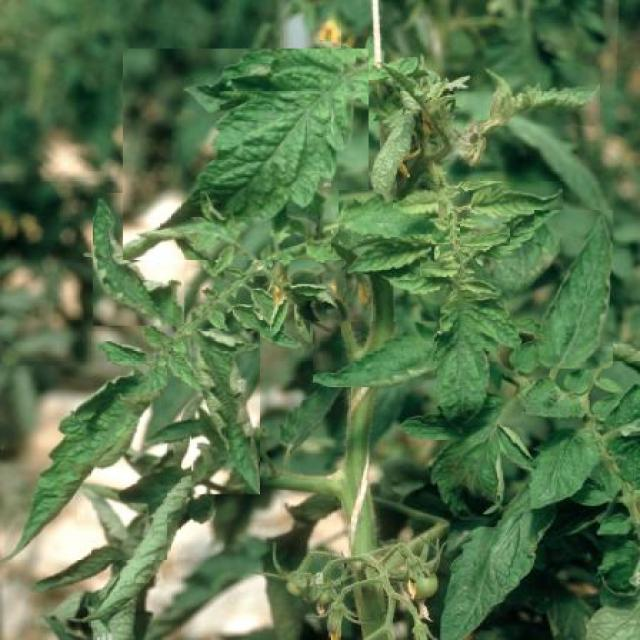Yellow Leaf Curl Virus: (123, 48, 368, 260), (0, 366, 167, 560), (422, 277, 522, 427), (534, 210, 613, 369), (94, 193, 185, 326), (191, 329, 260, 495), (313, 322, 437, 388), (482, 66, 600, 126), (339, 190, 451, 244), (471, 182, 563, 222), (346, 235, 431, 274), (394, 189, 439, 217), (460, 224, 510, 246), (420, 257, 460, 277)
